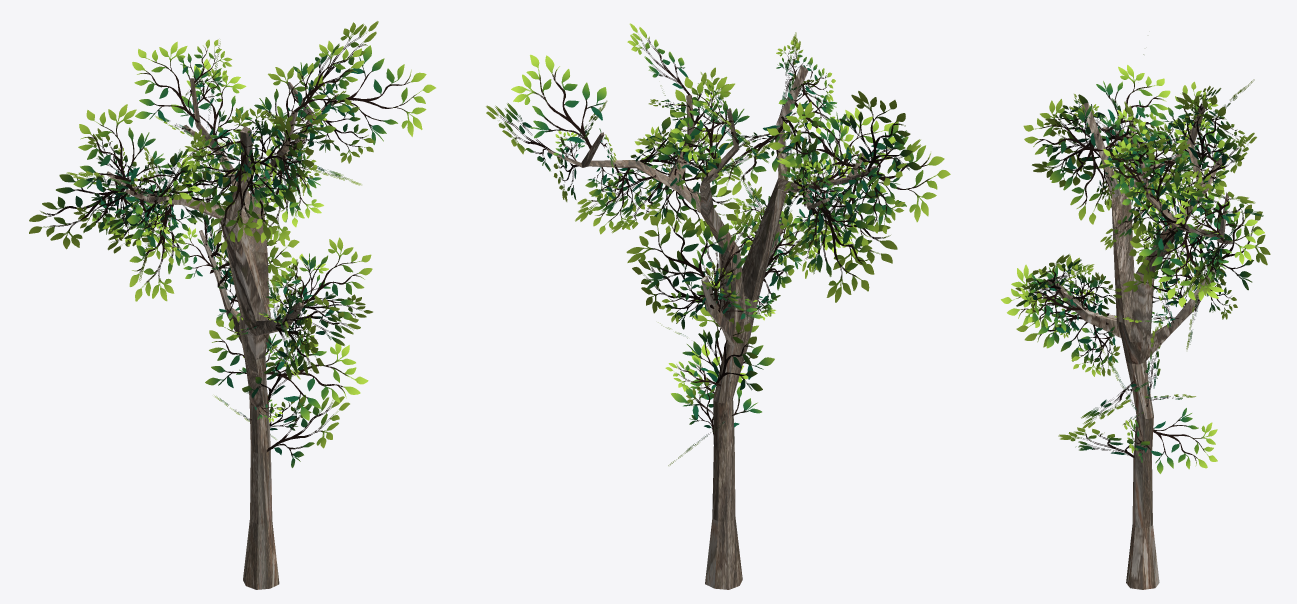
Rendered from tree1.fbx.
3 renders of one model, left to right at view 1: azimuth 30°, elevation 25°; view 2: azimuth 150°, elevation 25°; view 3: azimuth 270°, elevation 25°, orthographic. The views are drawn at different scales.
Visible parts, largest first — view 1: tree1_LOD0; view 2: tree1_LOD0; view 3: tree1_LOD0.
Boxes of the visible parts, x1,y1,x2,y2 form: tree1_LOD0: [29, 21, 435, 589]; tree1_LOD0: [486, 23, 950, 589]; tree1_LOD0: [1001, 54, 1270, 589].
Size of what is drawn, in the model's own units: 558 by 683 by 364.
2 materials, 2 textured.
